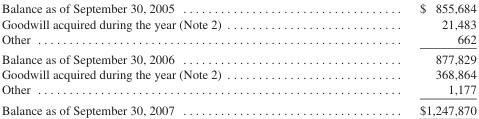table: (0, 1, 475, 116)
table column: (0, 1, 319, 116), (319, 1, 475, 116)
table row: (0, 30, 475, 48), (0, 48, 475, 66), (0, 81, 475, 99), (0, 99, 475, 116), (0, 15, 475, 30), (0, 66, 475, 81), (0, 1, 475, 15)
